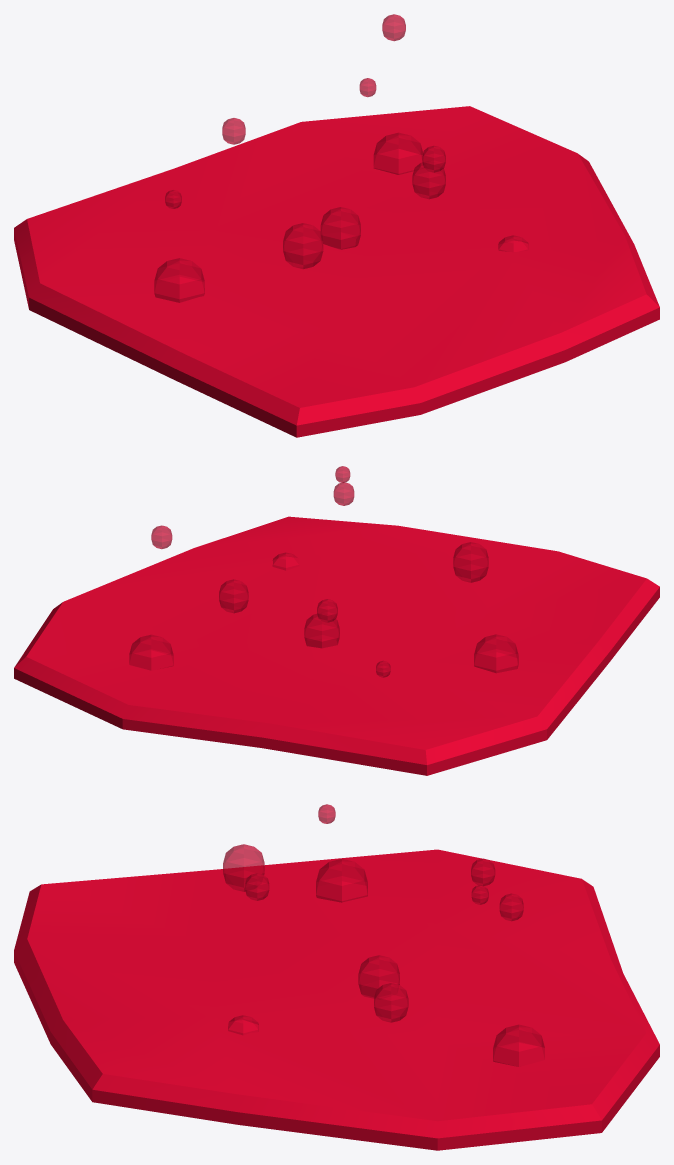
The model's file is lava-lake.fbx.
3 renders of one model, top to bottom at view 1: azimuth 30°, elevation 25°; view 2: azimuth 150°, elevation 25°; view 3: azimuth 270°, elevation 25°, orthographic. The views are drawn at different scales.
Visible parts, largest first — view 1: pCube64, pSphere28, pSphere27, pSphere19, pSphere25, pSphere18; view 2: pCube64, pSphere28, pSphere27, pSphere19, pSphere25, pSphere18; view 3: pCube64, pSphere28, pSphere27, pSphere19, pSphere25, pSphere18, pSphere22, pSphere21, pSphere20.
Boxes of the visible parts, x1=… form: pCube64: x1=14, y1=106, x2=659, y2=437; pSphere28: x1=154, y1=258, x2=204, y2=302; pSphere27: x1=373, y1=132, x2=422, y2=174; pSphere19: x1=283, y1=223, x2=323, y2=269; pSphere25: x1=320, y1=207, x2=360, y2=249; pSphere18: x1=412, y1=161, x2=445, y2=199; pCube64: x1=14, y1=516, x2=659, y2=775; pSphere28: x1=474, y1=634, x2=518, y2=673; pSphere27: x1=129, y1=634, x2=173, y2=670; pSphere19: x1=453, y1=542, x2=488, y2=582; pSphere25: x1=304, y1=613, x2=339, y2=648; pSphere18: x1=219, y1=579, x2=248, y2=613; pCube64: x1=14, y1=849, x2=659, y2=1150; pSphere28: x1=316, y1=858, x2=367, y2=902; pSphere27: x1=493, y1=1024, x2=544, y2=1066; pSphere19: x1=223, y1=844, x2=264, y2=891; pSphere25: x1=358, y1=955, x2=399, y2=998; pSphere18: x1=374, y1=983, x2=408, y2=1022; pSphere22: x1=499, y1=893, x2=523, y2=921; pSphere21: x1=245, y1=873, x2=269, y2=900; pSphere20: x1=471, y1=858, x2=495, y2=886.
Bounding box in the file's own units: 5 × 1.77 × 4.84.
